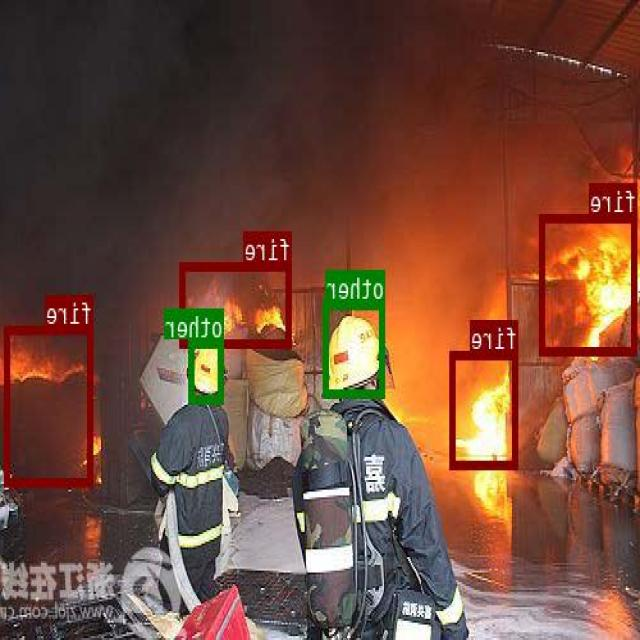fire: (5, 325, 94, 485), (542, 212, 638, 354), (181, 261, 293, 346), (451, 349, 519, 468)
other: (325, 299, 386, 396), (190, 338, 224, 402)
